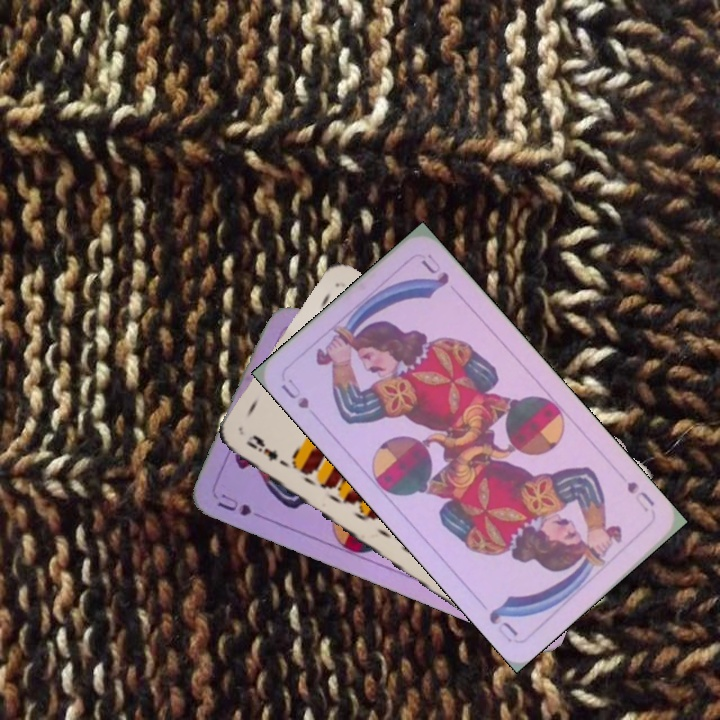E9: (242, 431, 295, 470)
SU: (277, 374, 312, 412), (623, 477, 657, 515), (213, 489, 254, 519)
